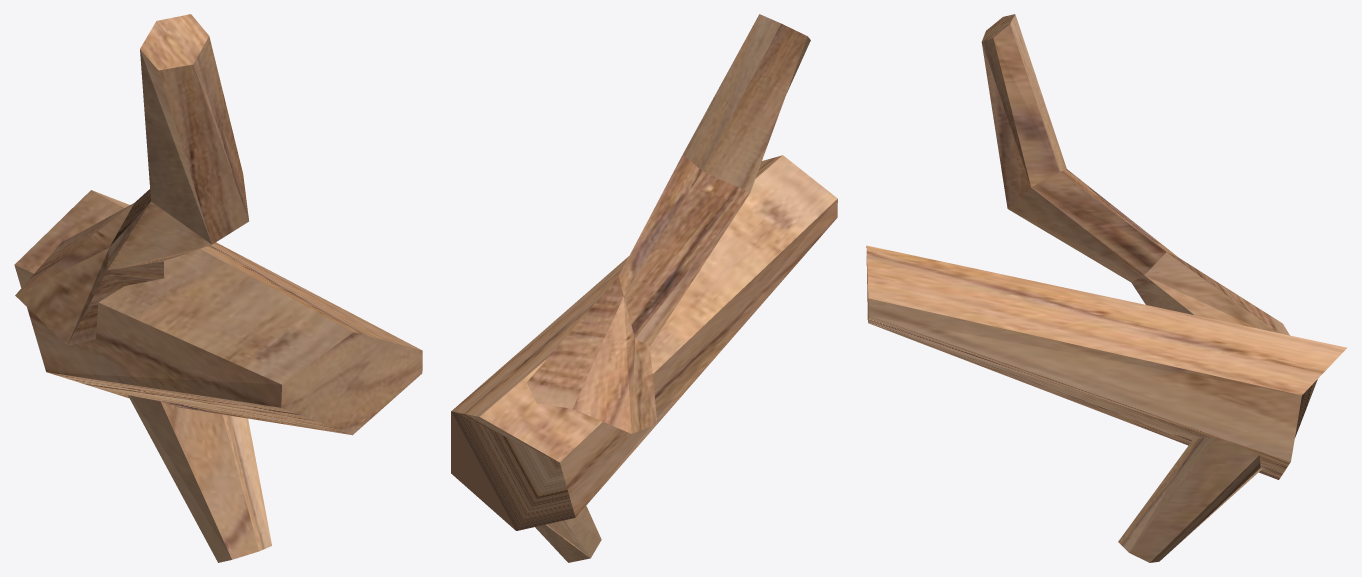
Rendered from right_hand.gltf.
The picture shows the model from 3 angles, left to right: view 1: azimuth 30°, elevation 25°; view 2: azimuth 150°, elevation 25°; view 3: azimuth 270°, elevation 25°; orthographic projection. The views are drawn at different scales.
Visible parts, largest first — view 1: Cylinder.002; view 2: Cylinder.002; view 3: Cylinder.002.
Part boxes in pixels (x1=…): Cylinder.002: x1=14, y1=14, x2=422, y2=562; Cylinder.002: x1=451, y1=14, x2=837, y2=562; Cylinder.002: x1=866, y1=14, x2=1346, y2=562.
Size of the model in its own units: 16.88 by 41.09 by 36.82.
1 material, 1 textured.
